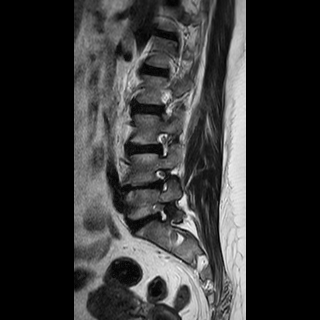LFS1: (149, 127, 177, 163)
LFS2: (147, 198, 172, 230), (150, 161, 171, 195)
